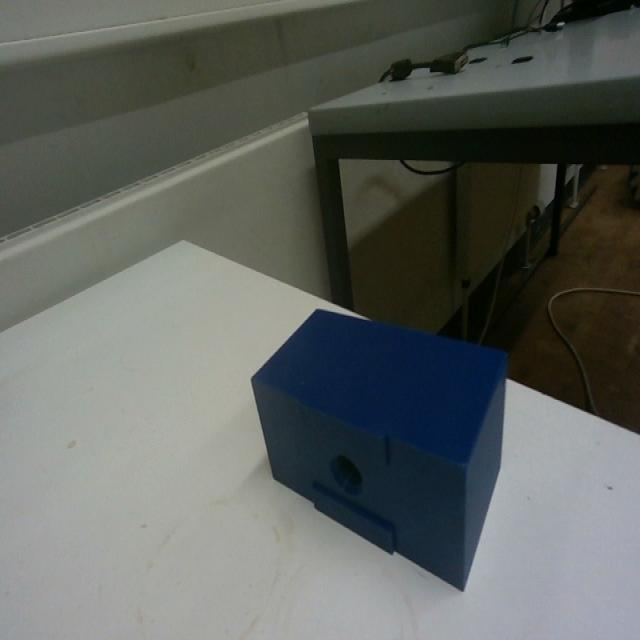Blue Cuboid: (248, 302, 511, 590)
